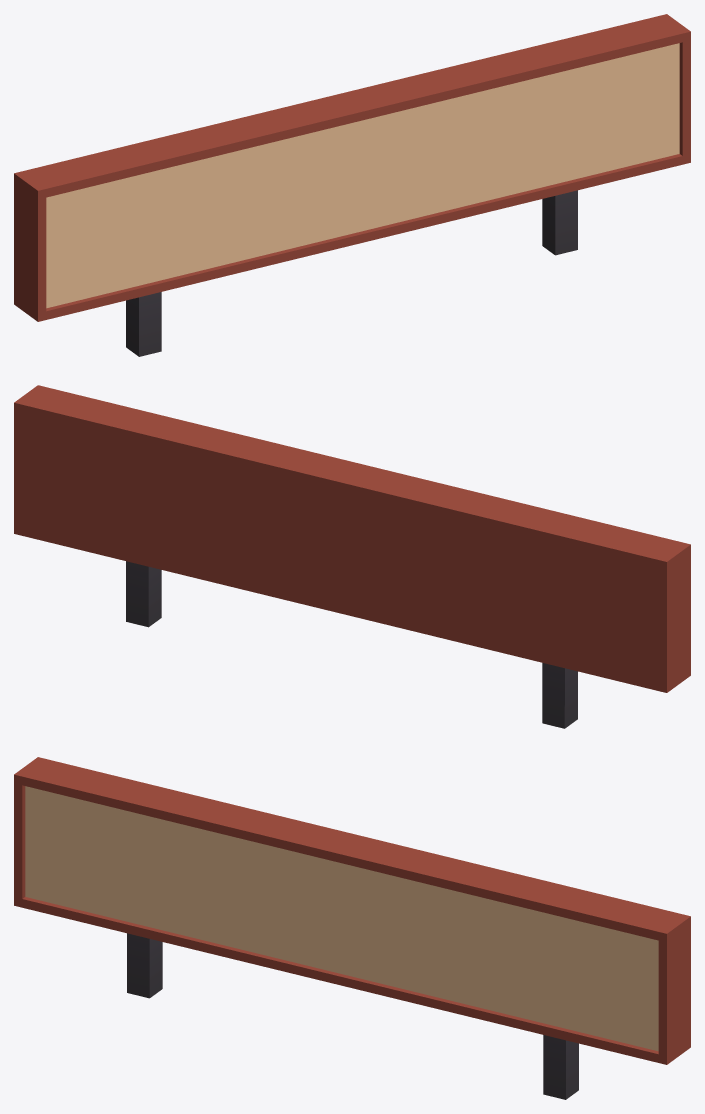
The model's file is SM_BANZI.FBX.
The picture shows the model from 3 angles, top to bottom: view 1: azimuth 30°, elevation 25°; view 2: azimuth 150°, elevation 25°; view 3: azimuth 330°, elevation 25°; orthographic projection.
Visible parts, largest first — view 1: Banner_06; view 2: Banner_06; view 3: Banner_06.
Part boxes in pixels (left/top/right/bottom): Banner_06: left=14, top=14, right=690, bottom=356; Banner_06: left=14, top=385, right=690, bottom=728; Banner_06: left=14, top=757, right=690, bottom=1099.
Bounding box in the file's own units: 439 × 126 × 28.01.
